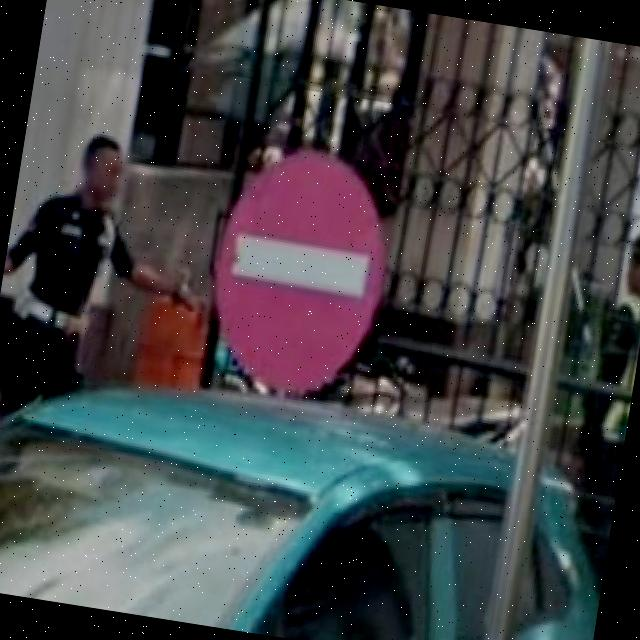Zakaz wjazdu: (198, 138, 398, 404)
